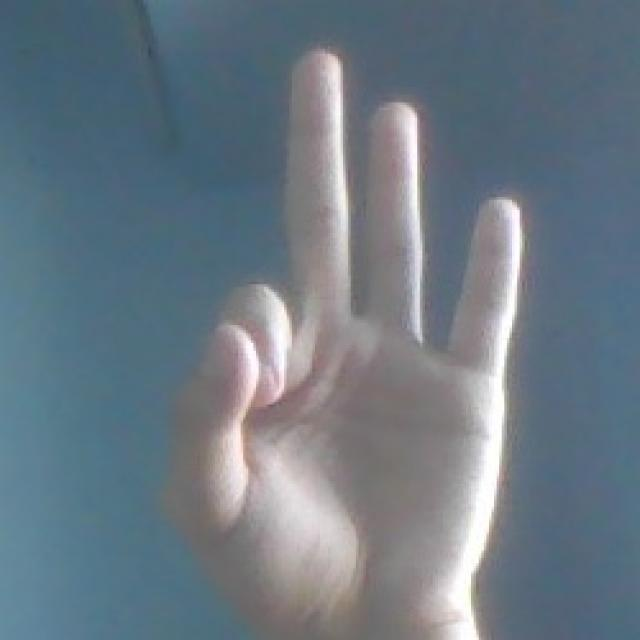Numeric-9: (160, 40, 524, 620)
